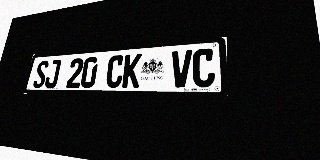0: (80, 57, 99, 88)
2: (66, 58, 84, 88)
C: (192, 48, 215, 87), (105, 55, 125, 88)
J: (44, 59, 62, 88)
K: (122, 53, 142, 88)
S: (32, 60, 49, 88)
V: (170, 50, 192, 87)
